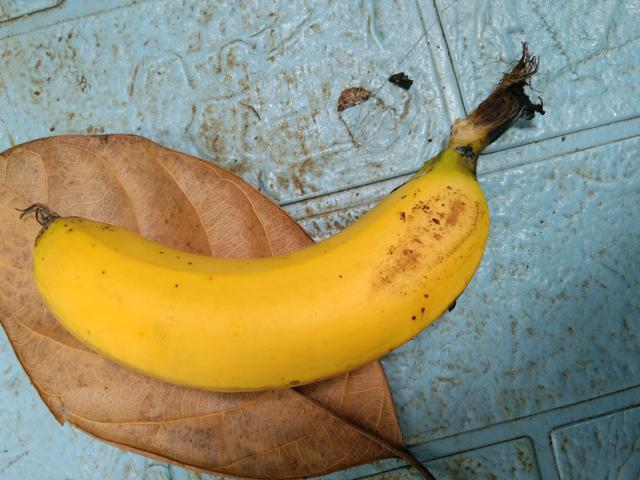freshripe: (23, 152, 496, 401)
